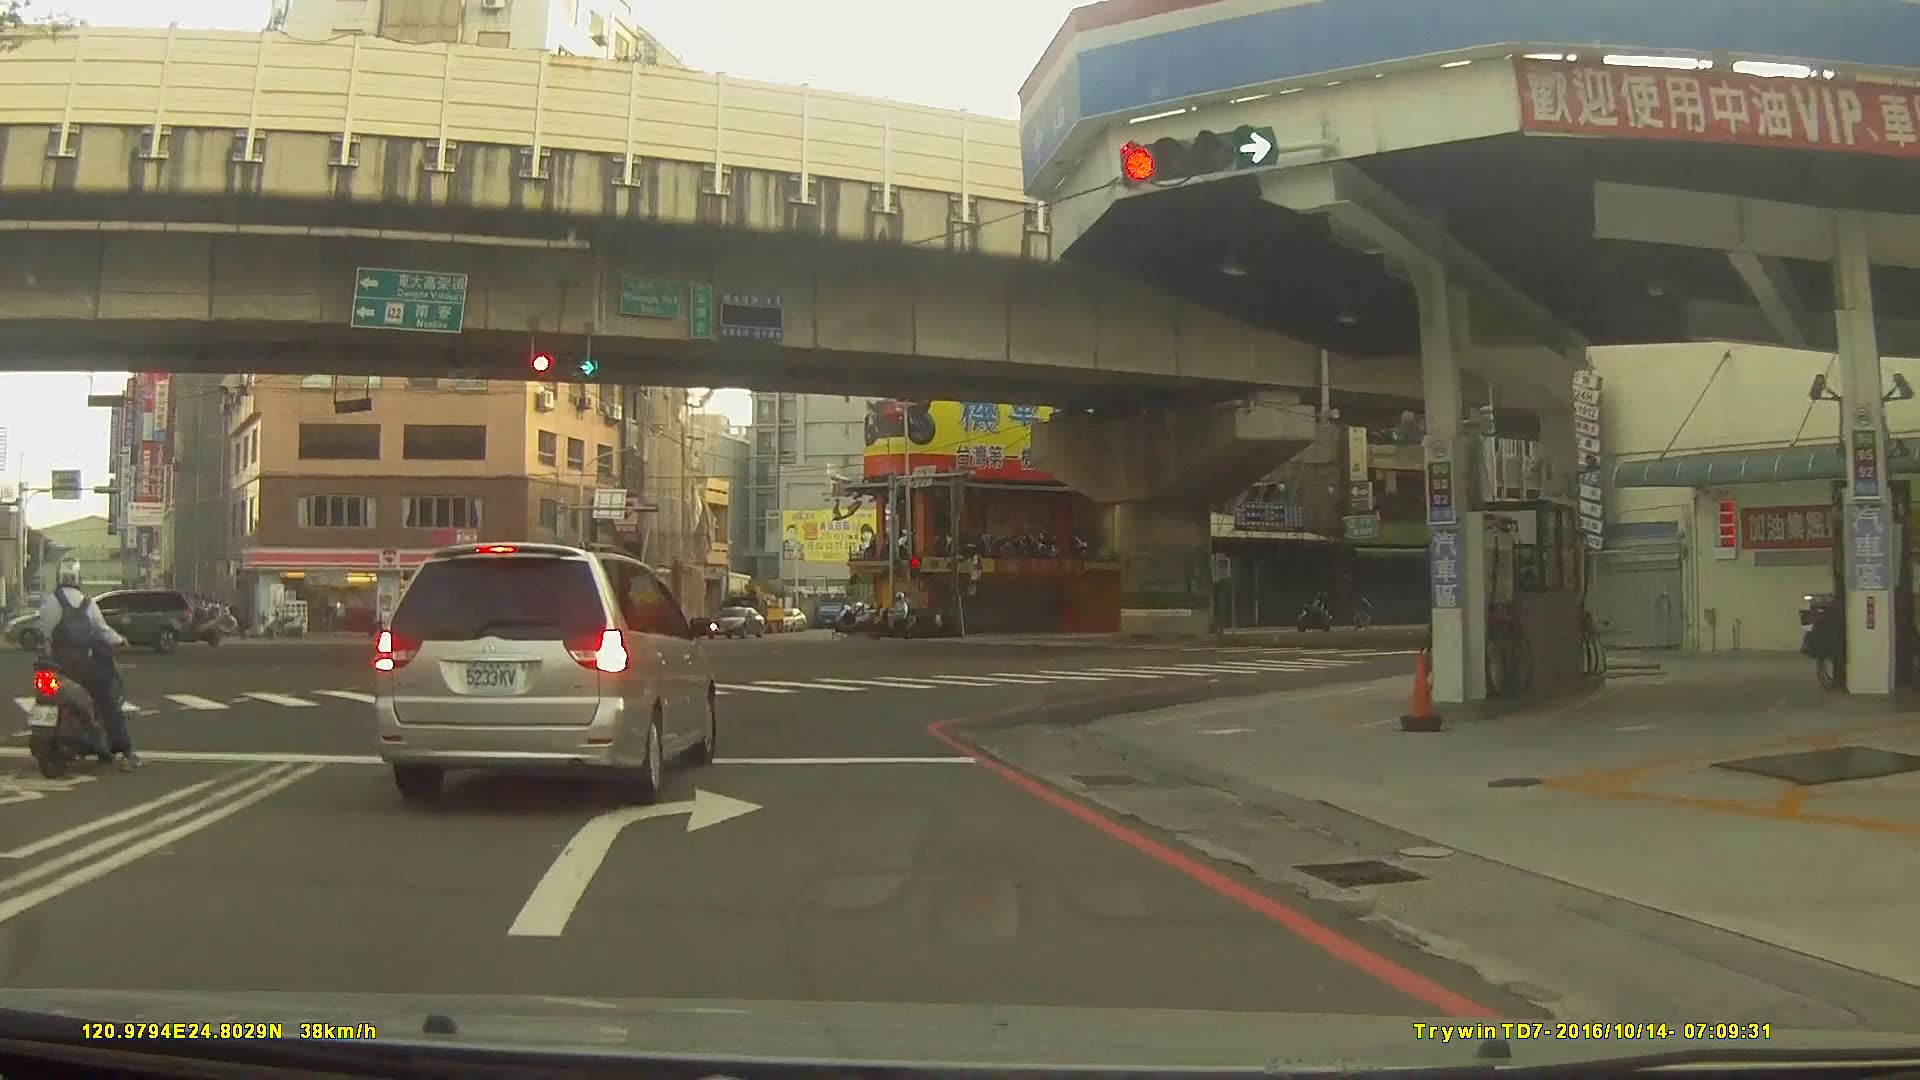rider: (26, 559, 139, 782), (177, 595, 228, 648), (871, 593, 918, 639)
vehicle: (368, 541, 714, 805), (45, 586, 196, 654), (710, 605, 767, 638), (543, 606, 605, 633)
